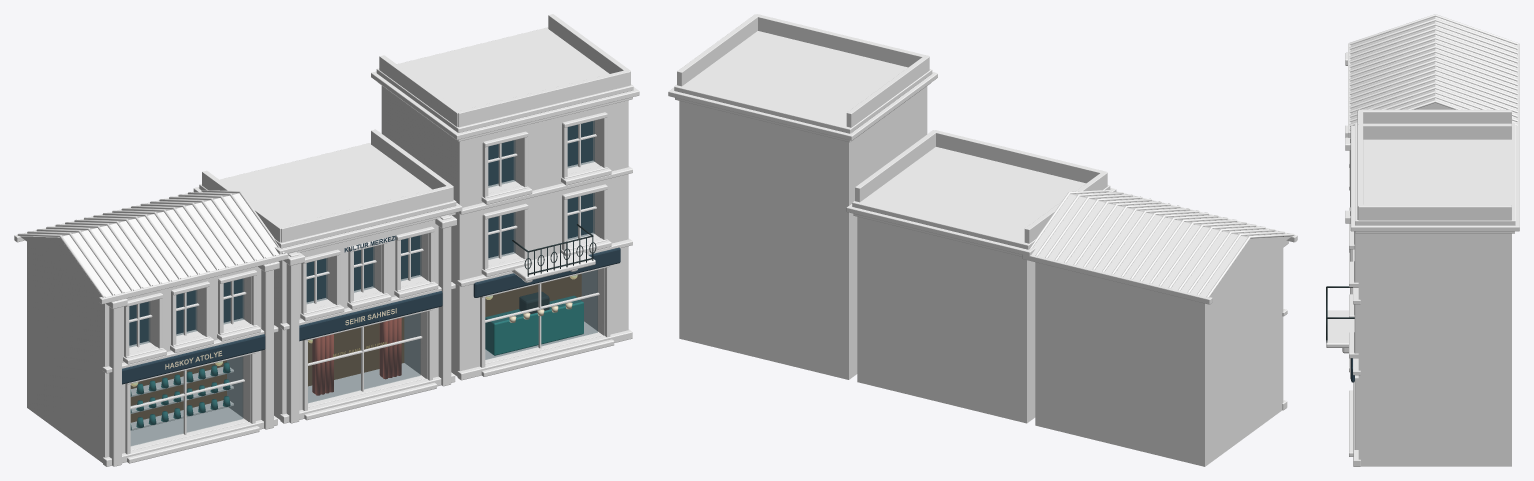
File: DistrictBlock_6_0.glb
3 renders of one model, left to right at view 1: azimuth 30°, elevation 25°; view 2: azimuth 150°, elevation 25°; view 3: azimuth 270°, elevation 25°, orthographic. The views are drawn at different scales.
Parts seen in each view (by area): view 1: RK_DistrictBlock_6_0_LC_Brick, RK_DistrictBlock_6_0_LC_Lime, RK_DistrictBlock_6_0_LC_Glass, RK_DistrictBlock_6_0_LC_Tile, RK_DistrictBlock_6_0_LC_Ink, RK_DistrictBlock_6_0_LC_Wood, RK_DistrictBlock_6_0_LC_Interior, RK_DistrictBlock_6_0_LC_Teal, RK_DistrictBlock_6_0_LC_Red, RK_DistrictBlock_6_0_LC_Iron, RK_DistrictBlock_6_0_LC_Canvas; view 2: RK_DistrictBlock_6_0_LC_Brick, RK_DistrictBlock_6_0_LC_Lime, RK_DistrictBlock_6_0_LC_Tile, RK_DistrictBlock_6_0_LC_Wood; view 3: RK_DistrictBlock_6_0_LC_Brick, RK_DistrictBlock_6_0_LC_Lime, RK_DistrictBlock_6_0_LC_Tile, RK_DistrictBlock_6_0_LC_Wood, RK_DistrictBlock_6_0_LC_Iron.
Part boxes in pixels (x1,y1,x2,y2): RK_DistrictBlock_6_0_LC_Brick: (27,14,630,462); RK_DistrictBlock_6_0_LC_Lime: (102,27,639,466); RK_DistrictBlock_6_0_LC_Glass: (129,121,597,445); RK_DistrictBlock_6_0_LC_Tile: (17,190,284,297); RK_DistrictBlock_6_0_LC_Ink: (122,121,620,384); RK_DistrictBlock_6_0_LC_Wood: (14,124,602,450); RK_DistrictBlock_6_0_LC_Interior: (130,274,581,422); RK_DistrictBlock_6_0_LC_Teal: (130,295,583,429); RK_DistrictBlock_6_0_LC_Red: (312,318,401,395); RK_DistrictBlock_6_0_LC_Iron: (512,224,596,314); RK_DistrictBlock_6_0_LC_Canvas: (165,302,572,369); RK_DistrictBlock_6_0_LC_Brick: (677,14,1283,466); RK_DistrictBlock_6_0_LC_Lime: (668,31,1288,410); RK_DistrictBlock_6_0_LC_Tile: (1030,190,1294,297); RK_DistrictBlock_6_0_LC_Wood: (1022,191,1297,304); RK_DistrictBlock_6_0_LC_Brick: (1357,109,1511,466); RK_DistrictBlock_6_0_LC_Lime: (1326,52,1519,466); RK_DistrictBlock_6_0_LC_Tile: (1349,14,1517,130); RK_DistrictBlock_6_0_LC_Wood: (1348,43,1519,137); RK_DistrictBlock_6_0_LC_Iron: (1326,286,1354,342).
Bounding box in the file's own units: 19.17 × 9.02 × 6.07.
